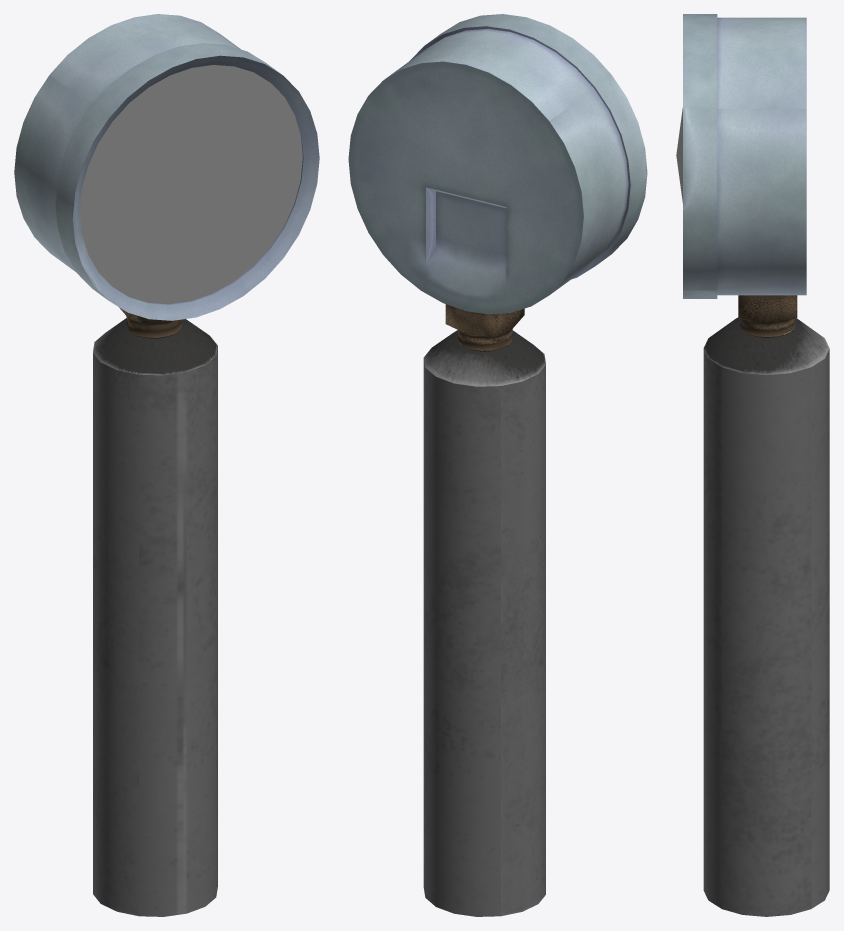
File: Gage.fbx
The picture shows the model from 3 angles, left to right: view 1: azimuth 30°, elevation 25°; view 2: azimuth 150°, elevation 25°; view 3: azimuth 270°, elevation 25°; orthographic projection. The views are drawn at different scales.
Visible parts, largest first — view 1: Budy, Glass; view 2: Budy; view 3: Budy, Glass.
Part boxes in pixels (left/top/right/bottom): Budy: left=14, top=14, right=319, bottom=916; Glass: left=80, top=65, right=302, bottom=304; Budy: left=348, top=14, right=647, bottom=916; Budy: left=683, top=14, right=829, bottom=916; Glass: left=676, top=107, right=682, bottom=202.
Bounding box in the file's own units: 11.27 × 37.61 × 6.06.
